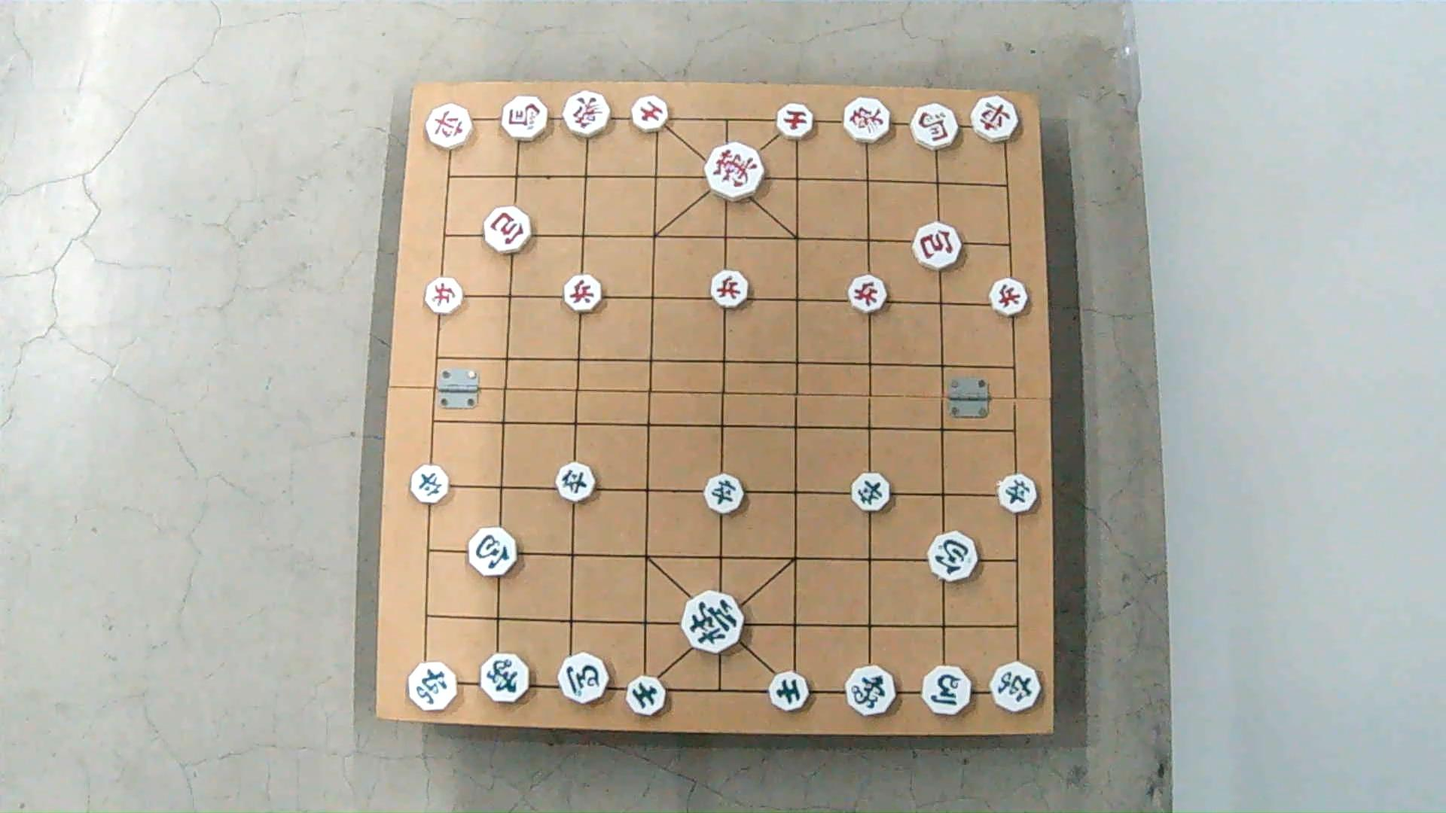cha_green: (992, 663, 1047, 710), (407, 664, 459, 710)
cha_red: (970, 98, 1021, 142), (427, 106, 476, 148)
jol_green: (995, 473, 1041, 508), (850, 477, 895, 512), (703, 478, 746, 514), (553, 464, 596, 499), (409, 469, 450, 504)
jol_red: (849, 277, 892, 311), (560, 276, 603, 310), (990, 278, 1032, 312), (710, 272, 751, 306), (425, 278, 467, 310)
ma_green: (923, 667, 978, 714), (557, 655, 609, 702)
ma_red: (911, 104, 961, 147), (499, 97, 550, 139)
po_green: (926, 534, 978, 580), (466, 530, 519, 574)
po_red: (912, 224, 963, 268), (483, 209, 534, 252)
sa_green: (624, 677, 665, 714), (769, 673, 812, 708)
sa_red: (776, 104, 816, 140), (630, 97, 670, 132)
sang_green: (477, 652, 532, 701), (844, 668, 898, 714)
sang_red: (560, 96, 612, 139), (845, 101, 895, 144)
wang_green: (682, 592, 748, 652)
wang_red: (706, 148, 769, 198)
